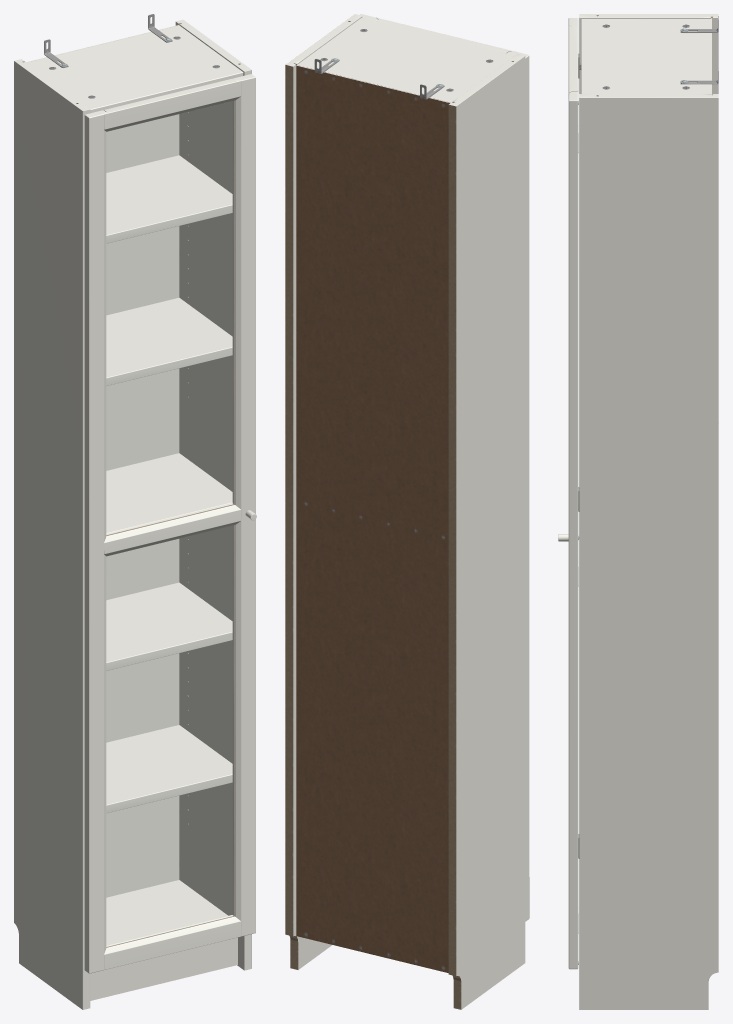
Rendered from billy_oxberg_rega_39287398.glb.
3 views of the same model, side by side, from view 1: azimuth 30°, elevation 25°; view 2: azimuth 150°, elevation 25°; view 3: azimuth 270°, elevation 25° (orthographic).
Visible parts, largest first — view 1: billy_oxberg_rega_39287398; view 2: billy_oxberg_rega_39287398; view 3: billy_oxberg_rega_39287398.
Boxes of the visible parts, left/top/right/bottom form: billy_oxberg_rega_39287398: left=14, top=14, right=256, bottom=1009; billy_oxberg_rega_39287398: left=285, top=14, right=529, bottom=1009; billy_oxberg_rega_39287398: left=558, top=14, right=718, bottom=1009.
Bounding box in the file's own units: 0.398 × 2.05 × 0.3219.
Materials: 2 (1 with a texture image).
